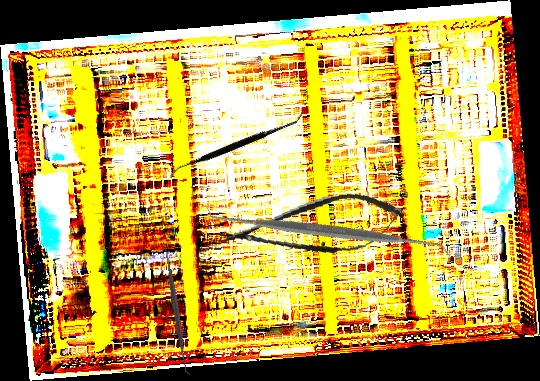Micro Scissor: (217, 187, 407, 268)
Spatula Surgical: (204, 108, 452, 355), (168, 69, 305, 219), (159, 246, 194, 377)
